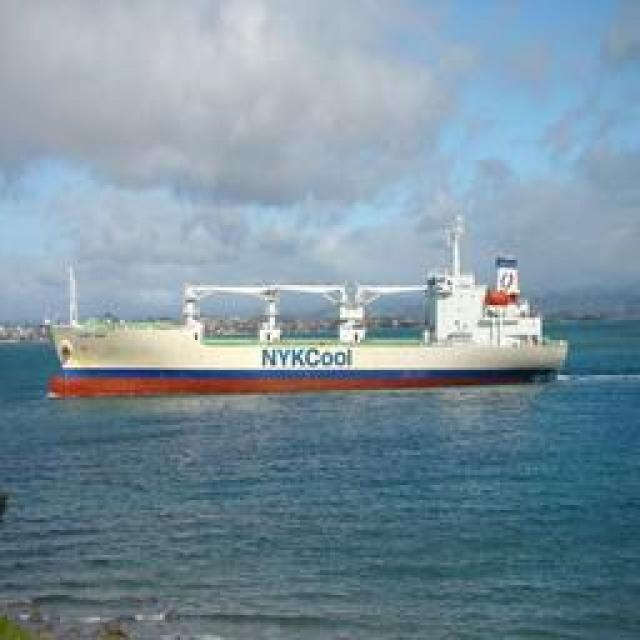Ship: (51, 263, 559, 398)
